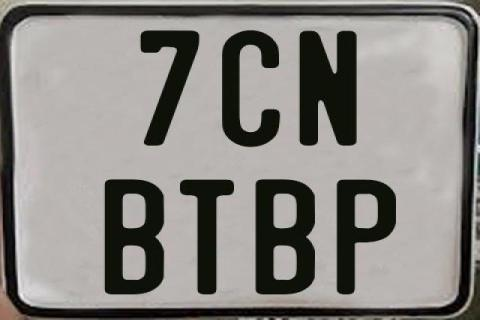0: (138, 30, 202, 146)
B: (255, 177, 318, 296), (105, 179, 166, 296)
C: (221, 29, 285, 149)
N: (296, 28, 355, 146)
P: (335, 178, 395, 298)
T: (177, 178, 235, 294)
